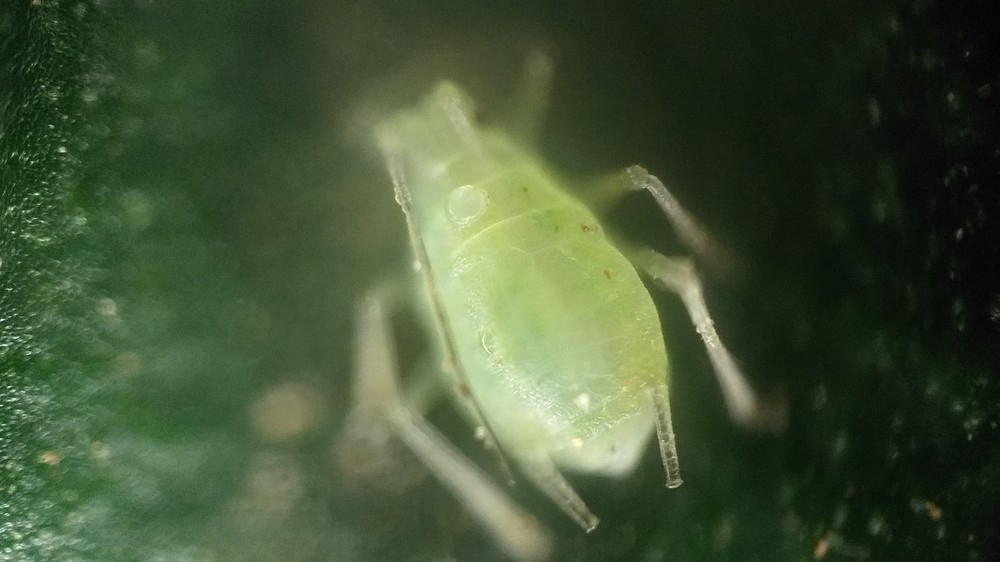Pulgon: (297, 48, 806, 552)
